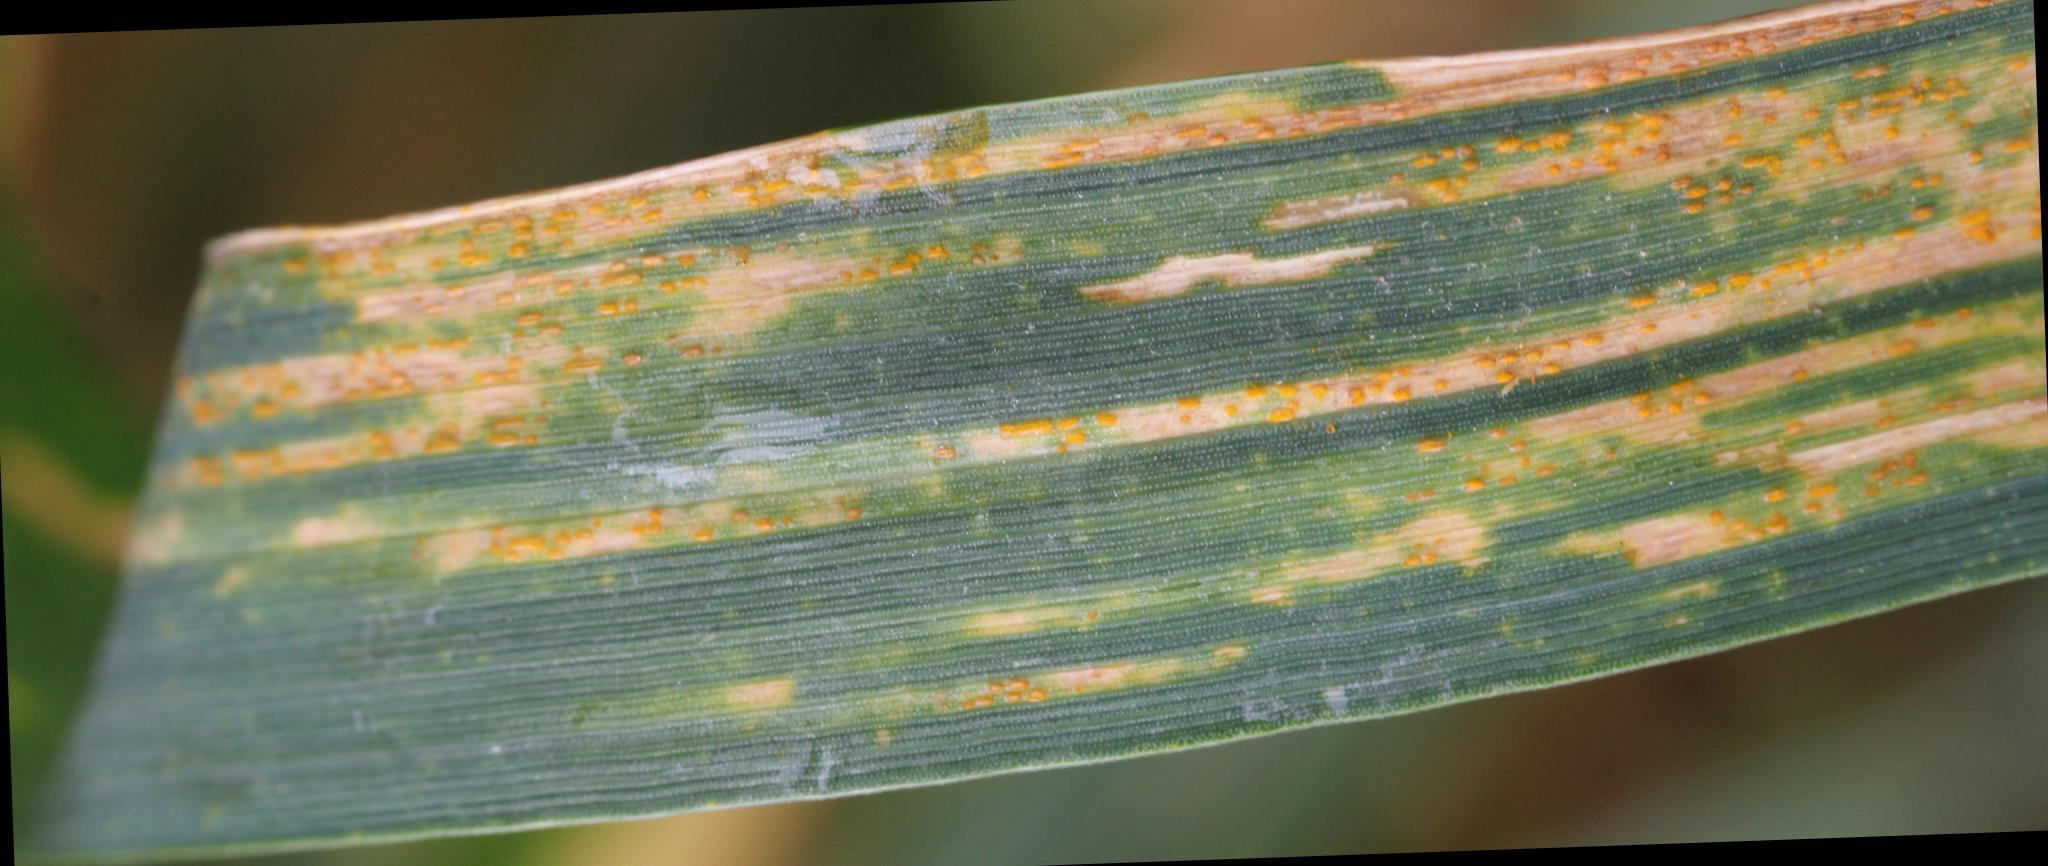Wheat: (724, 127, 1192, 755), (1561, 10, 2044, 600), (1127, 86, 1587, 631), (264, 231, 725, 581)
